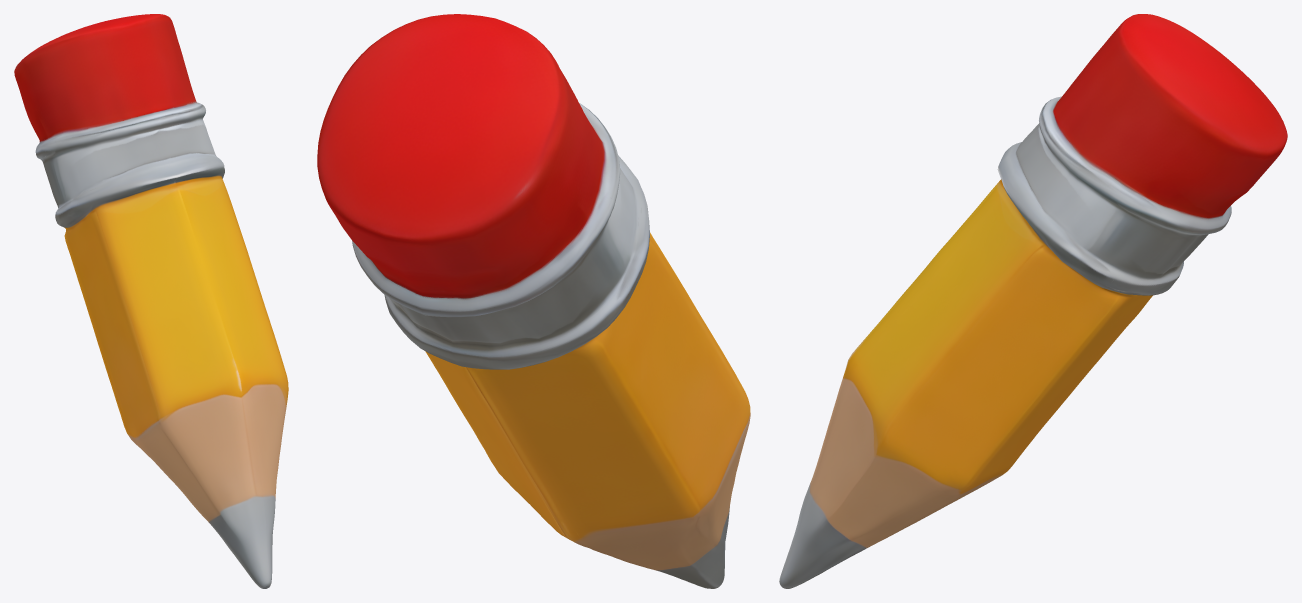
Rendered from pencil.glb.
3 views of the same model, side by side, from view 1: azimuth 30°, elevation 25°; view 2: azimuth 150°, elevation 25°; view 3: azimuth 270°, elevation 25° (orthographic). The views are drawn at different scales.
Parts seen in each view (by area): view 1: model; view 2: model; view 3: model.
Part boxes in pixels (bbox=[...]): model: bbox=[14, 14, 288, 588]; model: bbox=[317, 14, 750, 588]; model: bbox=[779, 14, 1287, 588].
Bounding box in the file's own units: 0.0514 × 0.15 × 0.124.
Materials: 1 (1 with a texture image).
